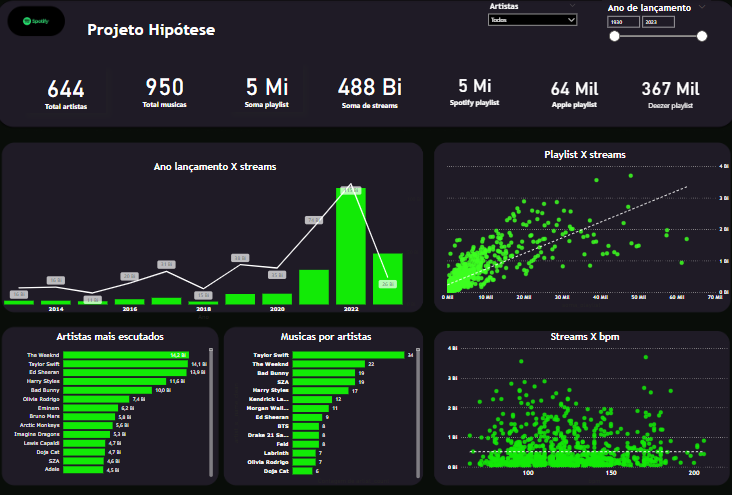

The page's visual inventory and layout, read from the dashboard file:
{"tool":"powerbi","page":{"name":"Dashboard","canvas":[1700,1150],"ordinal":1},"visuals":[{"type":"card","fields":{"Values":["Sum(tabelas_unificadas.streams_clean)"]},"box":[758.4,148.8,201.6,112.8],"z":0},{"type":"card","fields":{"Values":["CountNonNull(tabelas_unificadas.artist_count)"]},"box":[304.8,148.8,163.2,110.4],"z":1000},{"type":"card","fields":{"Values":["Sum(tabelas_unificadas.soma_playlist)"]},"box":[537.6,148.8,168,110.4],"z":2000},{"type":"card","fields":{"Values":["Count(tabelas_unificadas.artist_s__name_clean)"]},"box":[67.2,156,187.2,105.6],"z":3000},{"type":"lineClusteredColumnComboChart","title":"Ano lançamento X streams","fields":{"Y":["CountNonNull(tabelas_unificadas.track_id)"],"Y2":["Sum(tabelas_unificadas.streams_clean)"],"Category":["tabelas_unificadas.released.Variation.Hierarquia de datas.Ano","tabelas_unificadas.released.Variation.Hierarquia de datas.Trimestre","tabelas_unificadas.released.Variation.Hierarquia de datas.Mês"]},"box":[14.4,372,979.2,372],"z":4000},{"type":"scatterChart","title":"Playlist X streams","fields":{"Y":["tabelas_unificadas.streams_clean"],"X":["tabelas_unificadas.soma_playlist"]},"box":[1018.9,345,671.6,370.3],"z":5000},{"type":"scatterChart","title":"Streams X bpm","fields":{"X":["tabelas_unificadas.bpm"],"Y":["tabelas_unificadas.streams_clean"]},"box":[1009.7,763.6,690,356.5],"z":6000},{"type":"clusteredBarChart","title":"Musicas por artistas","fields":{"Category":["tabelas_unificadas.artist_s__name_clean"],"Y":["CountNonNull(tabelas_unificadas.artist_count)"]},"box":[538.2,763.6,441.6,356.5],"z":7000},{"type":"clusteredBarChart","title":"Artistas mais escutados","fields":{"Y":["Sum(tabelas_unificadas.streams_clean)"],"Category":["tabelas_unificadas.artist_s__name_clean"]},"box":[20.7,763.6,483,356.5],"z":8000},{"type":"slicer","fields":{"Values":["tabelas_unificadas.released_year"]},"box":[1393.6,2.8,250.7,154.4],"z":9000},{"type":"card","fields":{"Values":["Sum(tabelas_unificadas.in_apple_playlists)"]},"box":[1247.7,155.8,167.1,110.5],"z":12000},{"type":"card","fields":{"Values":["Sum(tabelas_unificadas.in_deezer_playlists)"]},"box":[1475.7,155.8,150.1,111.9],"z":13000},{"type":"card","fields":{"Values":["Sum(tabelas_unificadas.in_spotify_playlists)"]},"box":[1020,148.8,163.2,112.8],"z":14000},{"type":"slicer","fields":{"Values":["tabelas_unificadas.artist_s__name_clean"]},"box":[1121.7,0,223.8,110.5],"z":15000},{"type":"textbox","box":[204,43.2,364.8,64.8],"z":16000}]}

Visuals, with their boxes in screenshot pixels (x1, y1, x2, y2), scaled from the page's 1700x1150 canvas onto the 732x495 screenshot:
card - Sum(tabelas_unificadas.streams_clean): bbox=[327, 64, 413, 113]
card - CountNonNull(tabelas_unificadas.artist_count): bbox=[131, 64, 202, 112]
card - Sum(tabelas_unificadas.soma_playlist): bbox=[231, 64, 304, 112]
card - Count(tabelas_unificadas.artist_s__name_clean): bbox=[29, 67, 110, 113]
"Ano lançamento X streams" lineClusteredColumnComboChart: bbox=[6, 160, 428, 320]
"Playlist X streams" scatterChart: bbox=[439, 148, 728, 308]
"Streams X bpm" scatterChart: bbox=[435, 329, 731, 482]
"Musicas por artistas" clusteredBarChart: bbox=[232, 329, 422, 482]
"Artistas mais escutados" clusteredBarChart: bbox=[9, 329, 217, 482]
slicer - tabelas_unificadas.released_year: bbox=[600, 1, 708, 68]
card - Sum(tabelas_unificadas.in_apple_playlists): bbox=[537, 67, 609, 115]
card - Sum(tabelas_unificadas.in_deezer_playlists): bbox=[635, 67, 700, 115]
card - Sum(tabelas_unificadas.in_spotify_playlists): bbox=[439, 64, 509, 113]
slicer - tabelas_unificadas.artist_s__name_clean: bbox=[483, 0, 579, 48]
textbox: bbox=[88, 19, 245, 46]
